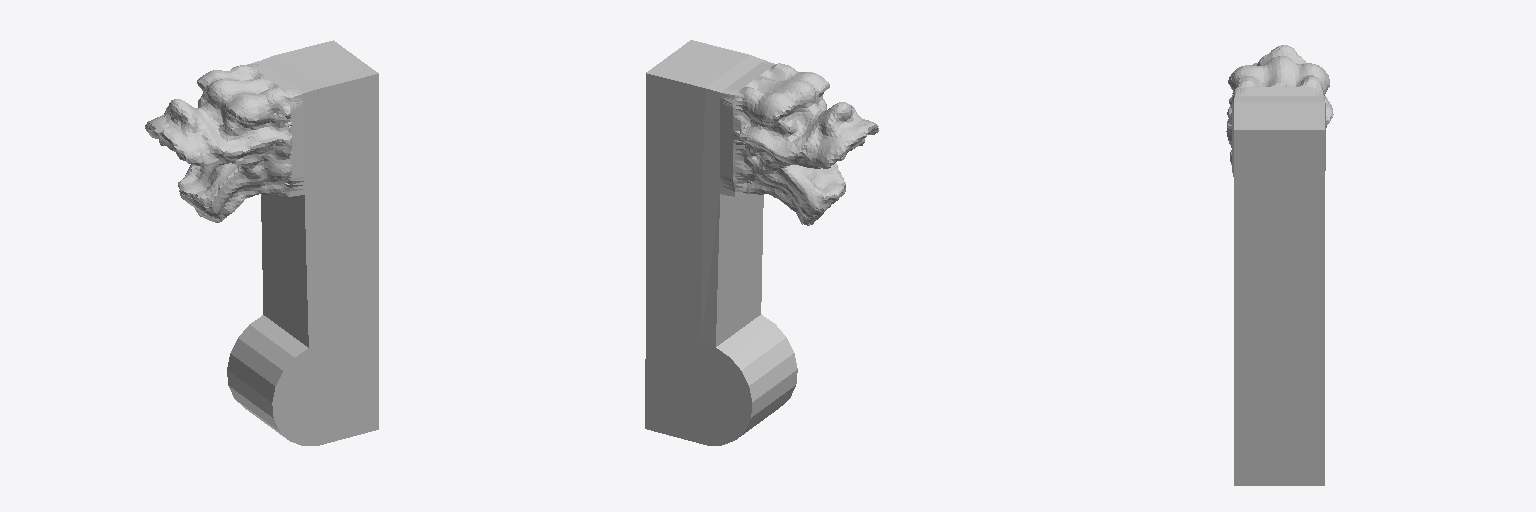
File: Statue.obj
3 renders of one model, left to right at view 1: azimuth 30°, elevation 25°; view 2: azimuth 150°, elevation 25°; view 3: azimuth 270°, elevation 25°, orthographic.
Visible parts, largest first — view 1: Statues:Dragon_Low:geo2 Statues:Dragon_Low:polySurface2, Statues:Dragon_Low:polySurface1 Statues:Dragon_Low:geo2; view 2: Statues:Dragon_Low:geo2 Statues:Dragon_Low:polySurface2, Statues:Dragon_Low:polySurface1 Statues:Dragon_Low:geo2; view 3: Statues:Dragon_Low:geo2 Statues:Dragon_Low:polySurface2, Statues:Dragon_Low:polySurface1 Statues:Dragon_Low:geo2.
Boxes of the visible parts, box(x1,y1,x2,y2) form: Statues:Dragon_Low:geo2 Statues:Dragon_Low:polySurface2: box(227, 40, 378, 445); Statues:Dragon_Low:polySurface1 Statues:Dragon_Low:geo2: box(145, 61, 304, 222); Statues:Dragon_Low:geo2 Statues:Dragon_Low:polySurface2: box(645, 40, 797, 445); Statues:Dragon_Low:polySurface1 Statues:Dragon_Low:geo2: box(720, 60, 878, 225); Statues:Dragon_Low:geo2 Statues:Dragon_Low:polySurface2: box(1234, 96, 1324, 485); Statues:Dragon_Low:polySurface1 Statues:Dragon_Low:geo2: box(1226, 45, 1333, 176).
Size of the model in its own units: 20.75 by 36.15 by 9.6.